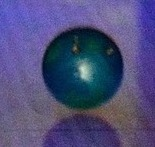ball: (41, 24, 126, 112)
